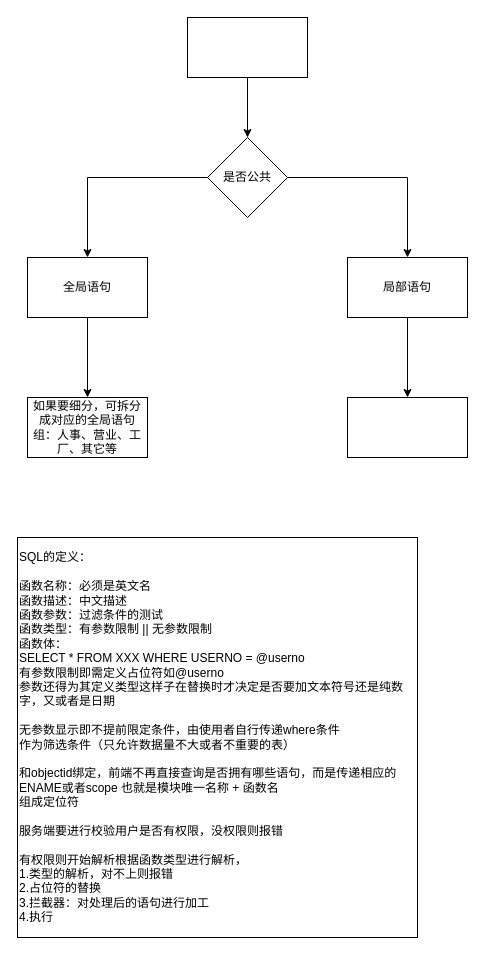
Image size: 485x955. Some labels were removed from this diagram. The box of each missing label's shape, as (x1, y1, x2, y2) in pixels:
对应页面: (346, 396, 468, 458)
远程SQL语句: (186, 16, 308, 78)
